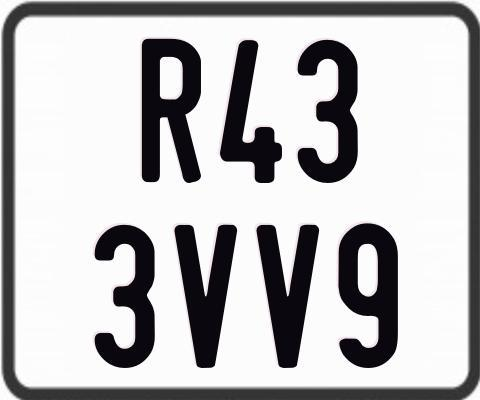3: (93, 223, 159, 371), (296, 37, 357, 182)
4: (218, 40, 284, 184)
9: (337, 221, 400, 366)
R: (141, 37, 206, 184)
V: (255, 224, 323, 367), (172, 224, 235, 370)
